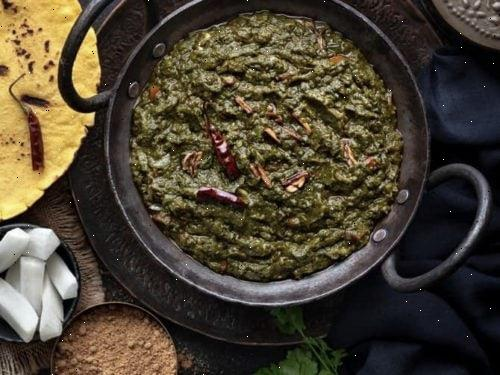saag: (130, 9, 407, 284)
